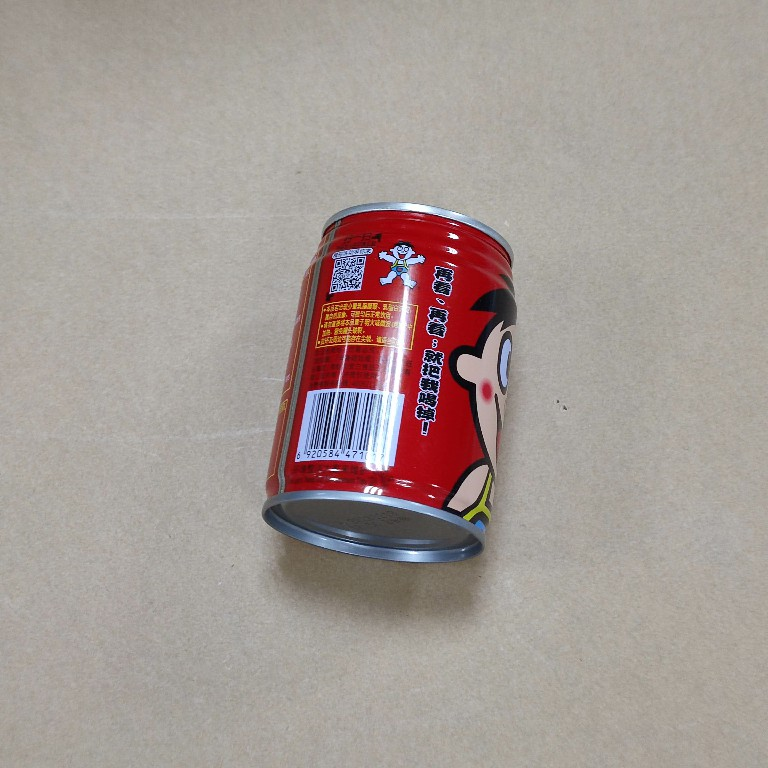can: (258, 201, 520, 565)
